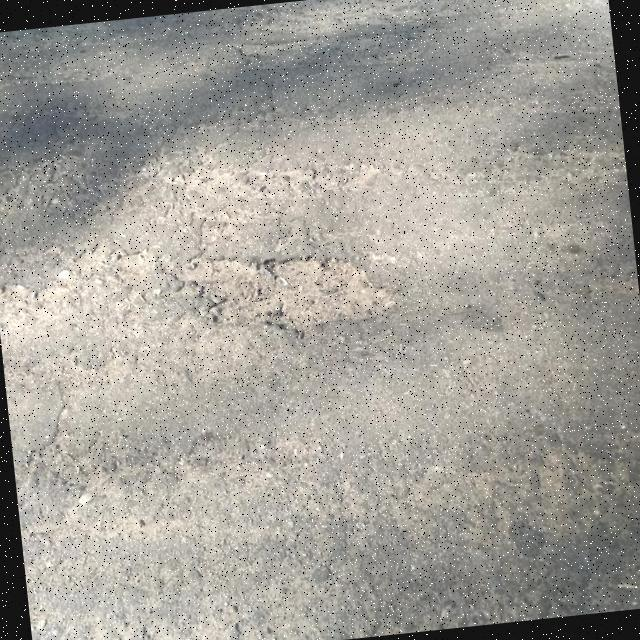Pothole: (167, 256, 391, 328)
